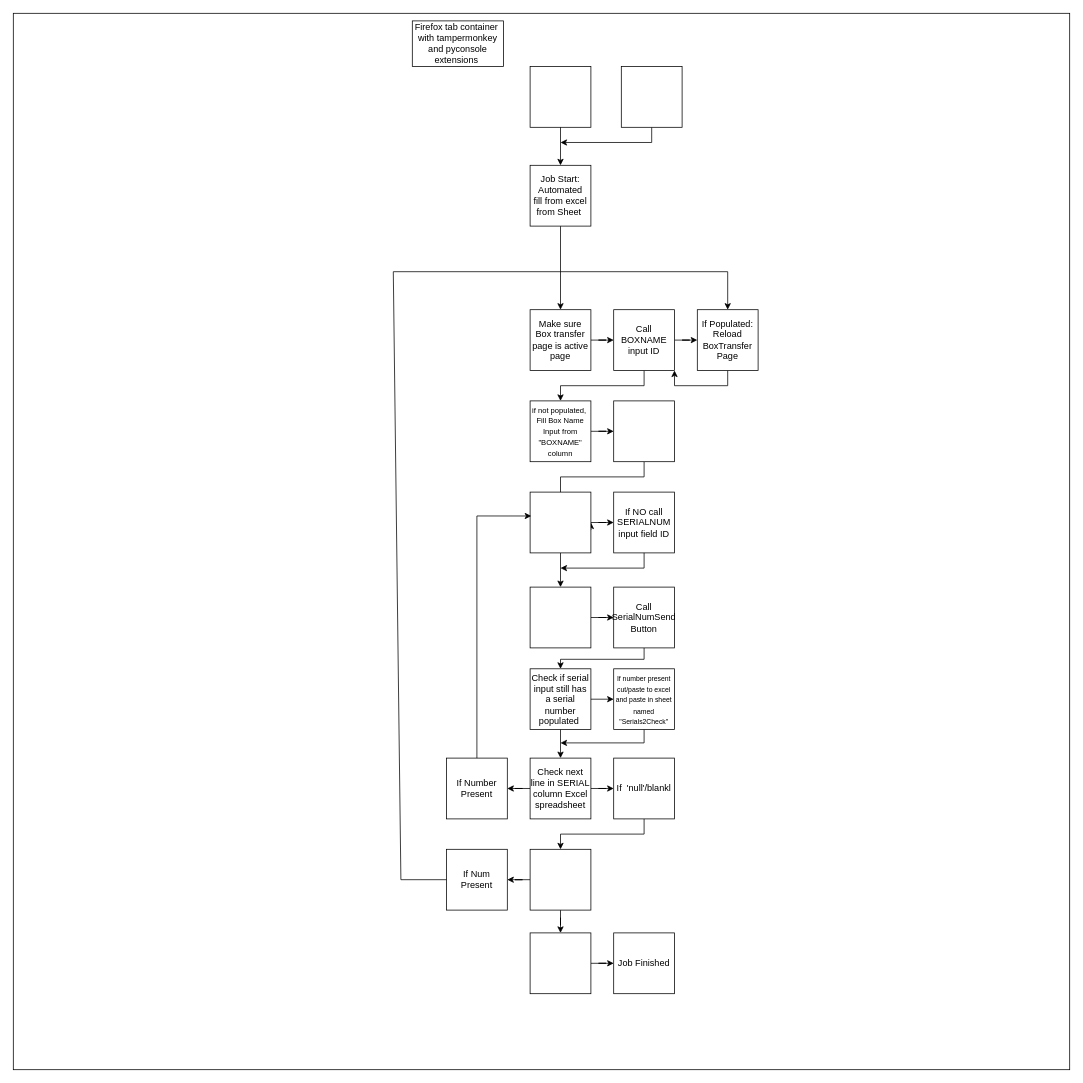
Some shapes in this 1083 by 1083 pixel diagram are drawn without their labels. The centre of each missing label's shape, as x and y in pixels:
Call BoxNameSend button ID: (643,431)
Check if BOXNAME present in same row: (560,879)
Check if in SERIALNUM input field: (560,522)
If No cut paste to PROCESSED sheet tab: (560,963)
If YES Fill Serial number Input from SERIAL collumn: (560,617)
Tab with box item fill: (560,96)
tab with excel spread sheet: (651,96)
